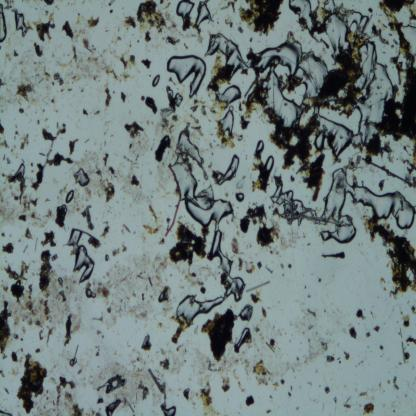Air bubble: (174, 157, 244, 300), (322, 166, 416, 230), (251, 31, 332, 95), (354, 37, 398, 121), (316, 0, 369, 51), (313, 108, 364, 158), (261, 64, 301, 125), (205, 30, 249, 76), (166, 51, 206, 99), (169, 221, 209, 268), (69, 229, 95, 283), (174, 296, 224, 322), (270, 185, 308, 216), (213, 154, 241, 186), (288, 0, 315, 32), (318, 225, 358, 246), (213, 84, 242, 108), (13, 8, 30, 38), (195, 0, 211, 26), (176, 1, 195, 22), (73, 166, 91, 188), (219, 111, 234, 136), (235, 326, 249, 350), (0, 3, 7, 45), (240, 304, 255, 322), (264, 154, 274, 172), (162, 404, 175, 416), (65, 188, 75, 203), (174, 92, 184, 107), (16, 162, 26, 176), (255, 139, 264, 153), (235, 192, 245, 203), (85, 289, 96, 299), (152, 74, 160, 87), (166, 86, 174, 98), (58, 277, 64, 286), (105, 254, 109, 262)
Background material: (263, 108, 326, 204), (370, 20, 416, 144), (302, 32, 367, 117), (104, 249, 170, 325), (361, 214, 416, 298), (5, 294, 61, 334), (16, 354, 49, 416), (80, 149, 116, 202), (203, 305, 236, 362), (361, 155, 416, 189), (236, 0, 285, 38), (238, 77, 268, 129), (308, 0, 350, 36), (206, 52, 236, 96), (362, 130, 394, 165), (117, 168, 149, 203), (136, 0, 169, 32), (76, 55, 113, 81), (199, 356, 239, 380), (302, 332, 331, 365), (145, 364, 168, 405), (50, 373, 75, 410), (249, 152, 271, 192), (240, 202, 266, 234), (179, 131, 204, 164), (195, 381, 218, 416), (32, 9, 56, 42), (156, 98, 178, 132), (170, 314, 194, 345), (182, 13, 204, 46), (96, 371, 127, 394), (0, 185, 18, 224), (255, 220, 278, 250), (379, 0, 416, 18), (38, 249, 52, 294), (182, 270, 209, 293), (7, 173, 26, 205), (155, 132, 174, 164), (278, 225, 300, 252), (215, 120, 235, 149), (16, 70, 34, 102), (254, 358, 273, 388), (0, 300, 10, 356), (4, 260, 29, 281), (128, 347, 146, 376), (398, 143, 416, 172), (370, 22, 390, 46), (107, 33, 124, 61), (2, 72, 15, 107), (61, 312, 73, 347), (132, 137, 154, 156), (58, 288, 74, 314), (30, 162, 44, 190), (124, 121, 147, 138), (110, 67, 136, 82), (75, 8, 88, 38), (279, 73, 300, 91), (48, 153, 73, 168), (10, 280, 26, 303), (66, 191, 82, 214), (70, 306, 83, 334), (54, 205, 68, 230), (61, 21, 76, 44), (120, 394, 136, 415), (136, 378, 150, 402), (245, 280, 269, 294), (38, 207, 54, 227), (104, 398, 121, 416), (70, 342, 82, 367), (96, 280, 112, 298), (158, 284, 172, 304), (81, 37, 98, 53), (34, 67, 50, 84), (346, 155, 363, 171), (122, 153, 141, 167), (42, 232, 58, 248), (157, 355, 172, 372), (231, 233, 242, 256), (321, 250, 345, 260), (121, 38, 134, 56), (222, 376, 235, 394), (148, 204, 159, 225), (69, 401, 84, 416), (32, 40, 44, 58), (85, 404, 103, 416), (142, 223, 160, 235), (54, 71, 68, 86), (19, 132, 30, 151), (82, 204, 93, 223), (140, 336, 153, 352), (67, 136, 77, 156), (56, 119, 67, 137), (219, 0, 237, 11), (172, 355, 183, 373), (146, 96, 157, 114), (103, 80, 110, 108), (190, 124, 203, 139), (164, 35, 180, 47), (100, 220, 110, 239), (244, 395, 257, 409), (124, 16, 137, 30), (235, 173, 246, 189), (190, 98, 201, 114), (209, 104, 222, 117), (87, 16, 99, 30), (172, 154, 184, 168), (42, 129, 56, 141), (266, 338, 278, 352), (249, 290, 261, 304), (22, 194, 31, 212), (55, 61, 75, 69), (244, 260, 256, 273), (363, 403, 375, 415), (102, 120, 111, 136), (348, 325, 358, 339), (91, 312, 105, 322), (141, 58, 152, 70), (181, 389, 192, 401), (2, 242, 14, 253), (47, 93, 57, 106), (24, 227, 34, 240), (243, 359, 251, 375), (292, 357, 301, 371), (119, 57, 130, 68), (405, 334, 416, 345), (72, 42, 78, 62), (94, 343, 102, 358), (130, 175, 140, 187), (236, 381, 246, 393), (356, 308, 366, 320), (200, 101, 208, 116), (403, 314, 411, 328), (260, 307, 268, 321), (1, 279, 9, 293), (26, 284, 34, 298), (401, 341, 406, 363), (188, 113, 198, 124), (95, 396, 106, 406), (224, 17, 234, 28), (0, 137, 9, 149), (164, 10, 173, 22), (103, 151, 110, 166), (237, 256, 244, 271), (128, 53, 136, 66), (0, 119, 6, 136), (9, 352, 19, 362), (3, 0, 13, 10), (18, 212, 28, 222), (29, 210, 38, 221), (107, 165, 116, 176), (378, 178, 385, 192), (118, 90, 126, 102), (46, 328, 52, 344), (68, 72, 76, 84), (0, 408, 12, 416), (144, 31, 152, 43), (95, 329, 105, 338), (380, 276, 386, 291), (306, 308, 317, 316), (82, 107, 90, 117), (60, 183, 68, 193), (264, 266, 274, 274), (12, 48, 20, 58), (112, 246, 120, 256), (161, 191, 171, 199), (121, 240, 127, 252), (18, 106, 26, 114), (30, 199, 38, 207), (104, 306, 112, 314), (158, 238, 166, 246), (176, 344, 184, 352), (10, 144, 18, 152), (326, 355, 335, 362), (170, 23, 177, 32), (254, 325, 261, 334), (164, 1, 171, 10), (358, 391, 368, 397), (166, 216, 172, 226), (344, 351, 350, 361), (276, 328, 283, 336), (237, 133, 244, 141), (13, 128, 20, 136), (5, 54, 12, 62), (381, 22, 388, 30), (159, 160, 166, 168), (34, 237, 38, 251), (272, 380, 278, 389), (174, 188, 180, 197), (23, 244, 29, 253), (44, 0, 54, 5), (38, 331, 43, 341), (0, 78, 5, 88), (411, 305, 416, 315), (373, 325, 380, 332), (346, 396, 352, 404), (288, 175, 294, 183), (12, 368, 18, 376), (0, 172, 6, 180), (398, 326, 402, 338), (230, 214, 235, 223), (0, 369, 5, 378), (325, 385, 330, 394), (35, 348, 42, 354), (13, 333, 20, 339), (59, 87, 65, 94), (286, 391, 292, 398), (405, 381, 410, 389), (77, 368, 82, 376), (36, 118, 41, 126), (6, 157, 11, 165), (52, 50, 56, 59), (307, 324, 313, 330), (247, 36, 253, 42), (109, 0, 115, 6), (209, 141, 213, 150), (103, 138, 107, 147), (54, 4, 60, 10), (391, 401, 396, 408), (183, 42, 188, 49), (368, 7, 373, 14), (94, 110, 102, 114), (208, 160, 212, 168), (2, 154, 6, 162), (276, 248, 280, 256), (44, 9, 49, 15), (67, 87, 73, 92), (16, 237, 21, 243), (306, 242, 312, 247), (358, 360, 364, 365), (1, 232, 6, 238), (269, 250, 274, 256), (302, 232, 306, 239), (283, 102, 288, 107), (390, 44, 395, 49), (54, 108, 59, 113), (307, 381, 312, 386), (266, 409, 271, 414), (224, 192, 229, 197), (165, 225, 170, 230), (20, 348, 24, 354), (85, 138, 91, 142), (44, 198, 50, 202), (32, 61, 38, 65), (280, 263, 284, 269), (333, 398, 337, 404), (237, 229, 240, 236), (80, 87, 84, 92), (386, 379, 390, 384), (371, 396, 375, 401), (128, 145, 133, 149), (216, 19, 220, 24), (141, 95, 145, 100), (110, 133, 115, 137), (42, 405, 46, 410), (342, 328, 346, 333), (30, 168, 35, 172), (378, 19, 382, 24), (160, 0, 165, 4), (318, 277, 322, 282), (109, 9, 114, 13), (20, 337, 24, 342), (379, 382, 382, 388), (14, 124, 18, 128), (338, 360, 342, 364), (336, 356, 340, 360), (307, 295, 311, 299), (354, 388, 358, 392), (398, 362, 402, 366), (388, 33, 392, 37), (288, 339, 292, 343), (137, 38, 140, 43), (13, 136, 16, 141), (1, 108, 4, 113), (24, 0, 29, 3), (45, 117, 48, 121), (0, 44, 2, 50), (405, 394, 408, 398), (370, 311, 373, 315), (46, 388, 48, 394), (359, 403, 362, 407), (46, 396, 49, 400), (407, 300, 410, 304), (270, 396, 273, 400), (113, 90, 116, 94), (290, 386, 293, 390), (296, 408, 300, 411), (382, 352, 385, 356), (42, 108, 45, 112), (31, 162, 34, 166), (268, 206, 271, 210), (401, 310, 403, 315), (304, 284, 306, 289), (211, 152, 214, 155), (367, 345, 370, 348), (282, 273, 284, 277), (382, 390, 386, 392), (168, 205, 172, 207), (407, 342, 409, 346), (150, 170, 152, 174), (382, 51, 386, 53), (412, 366, 414, 370), (397, 320, 399, 324), (393, 410, 395, 413), (380, 355, 383, 357), (355, 364, 357, 366), (406, 360, 408, 362), (370, 351, 372, 352), (384, 323, 386, 324)
Cellulose filter fibre: (42, 139, 53, 174)
Diatom: (4, 386, 11, 396), (38, 150, 46, 158), (124, 223, 130, 233), (238, 26, 244, 34), (51, 254, 57, 262), (404, 352, 410, 360), (257, 261, 263, 269), (365, 331, 371, 338), (392, 38, 398, 45), (88, 223, 94, 230), (394, 384, 400, 390), (343, 404, 351, 408), (392, 376, 396, 384), (379, 344, 384, 350), (261, 371, 267, 376), (252, 219, 257, 225), (280, 379, 285, 385), (287, 263, 292, 268)
Microfibre: (165, 163, 181, 237)
